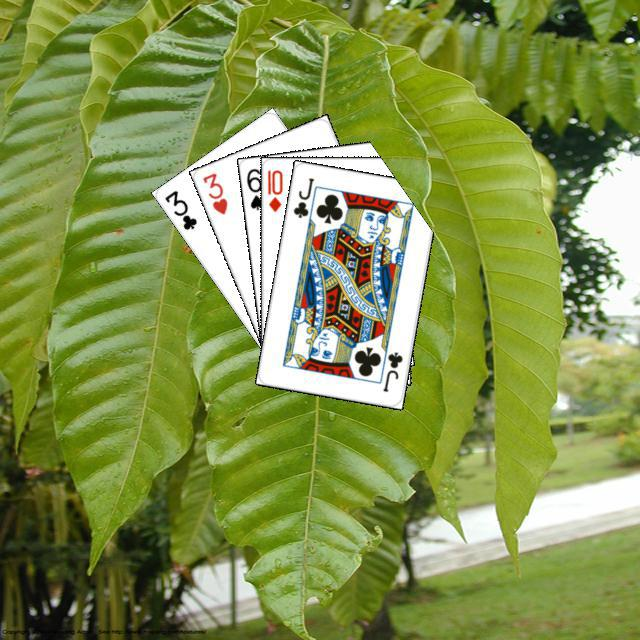10d: (263, 165, 284, 213)
3c: (159, 185, 199, 232)
3h: (198, 168, 229, 216)
6s: (242, 164, 266, 212)
Jc: (288, 173, 316, 220), (378, 347, 404, 394)
